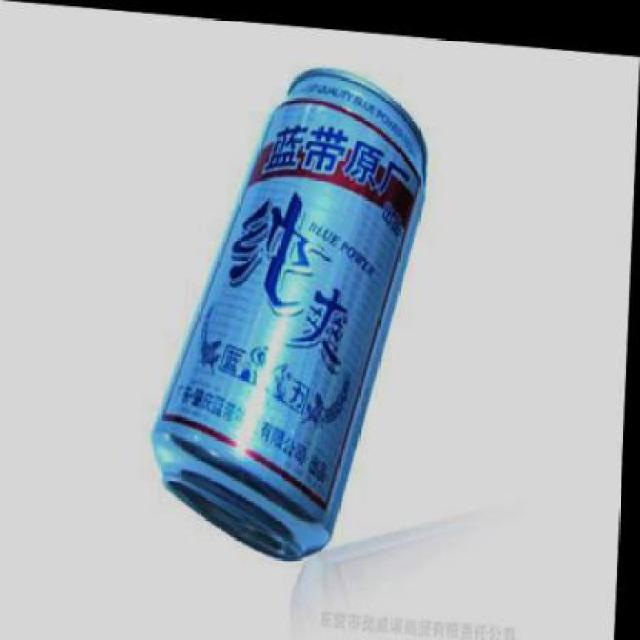Metal: (145, 59, 432, 566)
